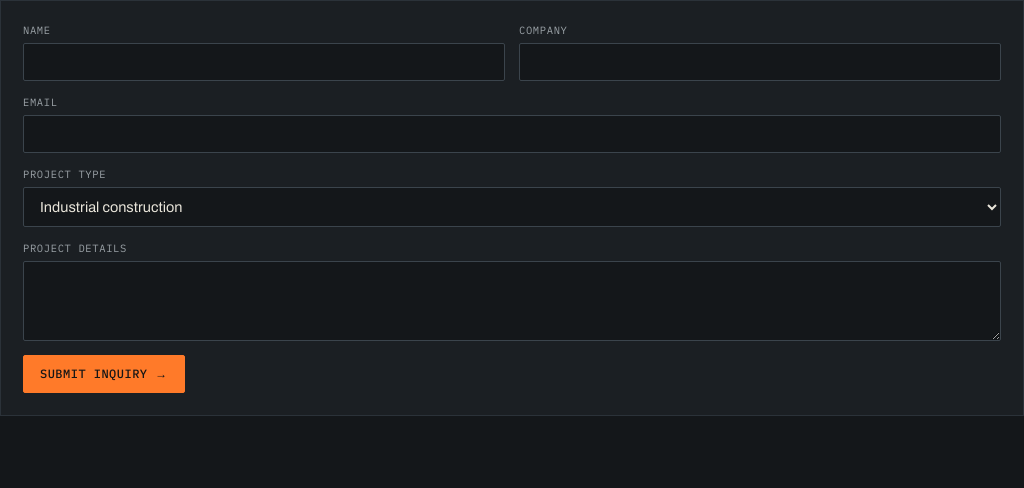
Test: shows an error message instead of silently doing nothing on a network failure
Type "Priya" into the field labelled "Name" at (264, 62), box top-left (23, 43), bottom-right (505, 81)
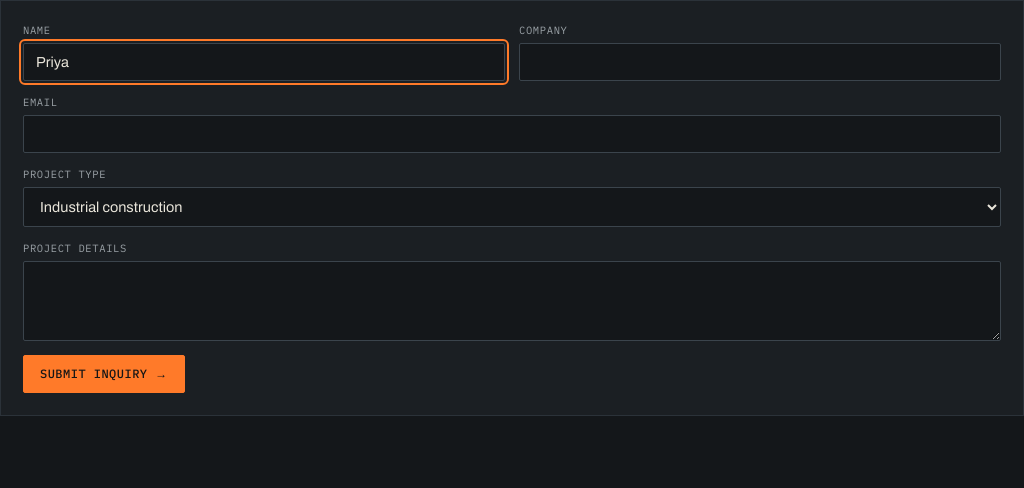
Type "priya@example.com" into the field labelled "Email" at (512, 134), box top-left (23, 115), bottom-right (1001, 153)
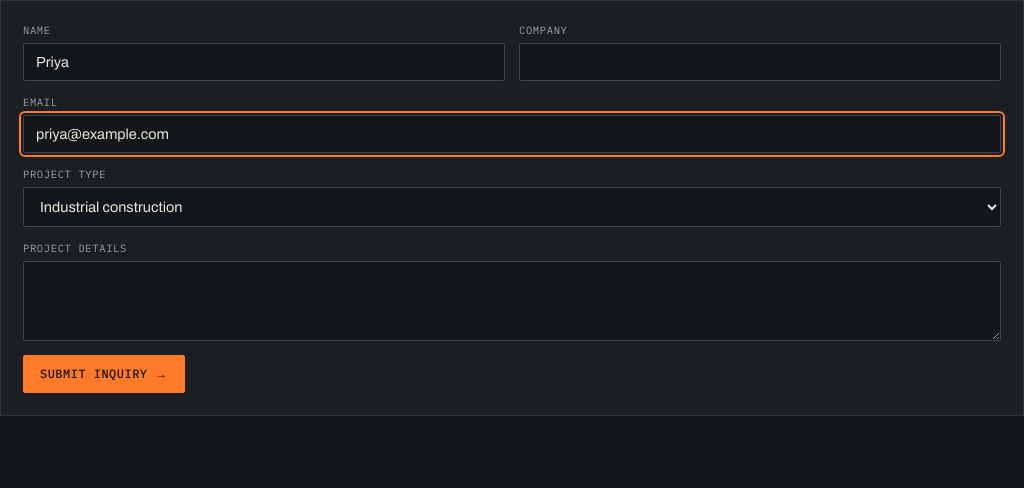
Type "We need a quote." into the text box labelled "Project details" at (512, 301), box top-left (23, 261), bottom-right (1001, 341)
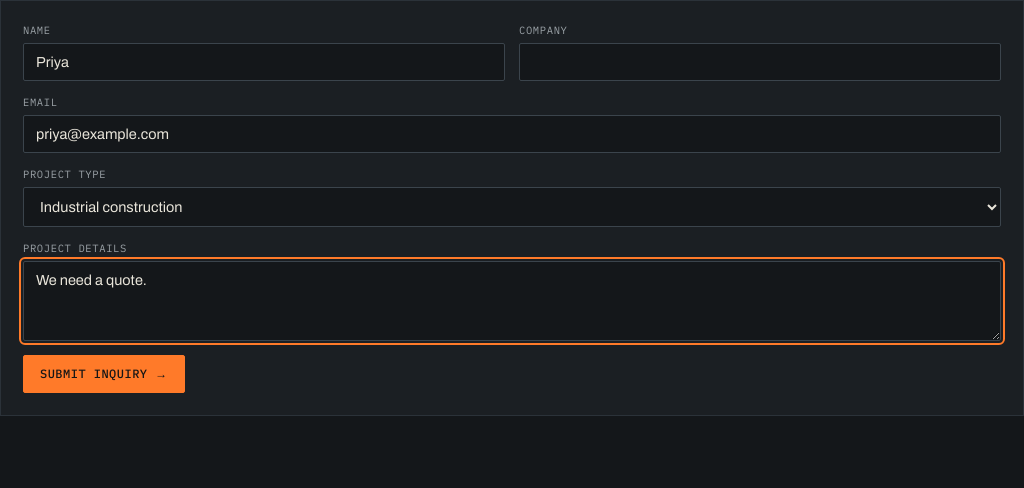
Click the button "Submit Inquiry →" at (104, 374), box top-left (23, 355), bottom-right (185, 393)
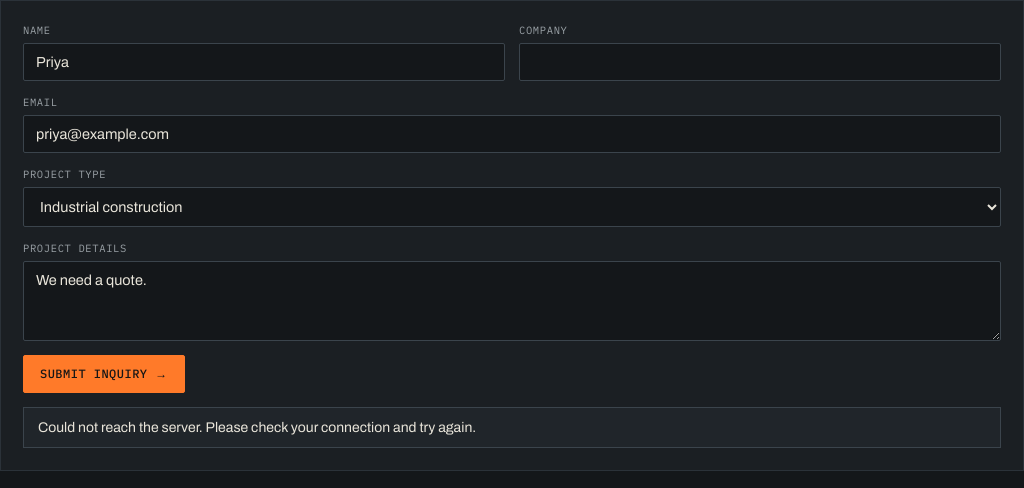
Check: the message "Could not reach the server. Please check your connection and try again." is shown, box top-left (23, 407), bottom-right (1001, 448)
